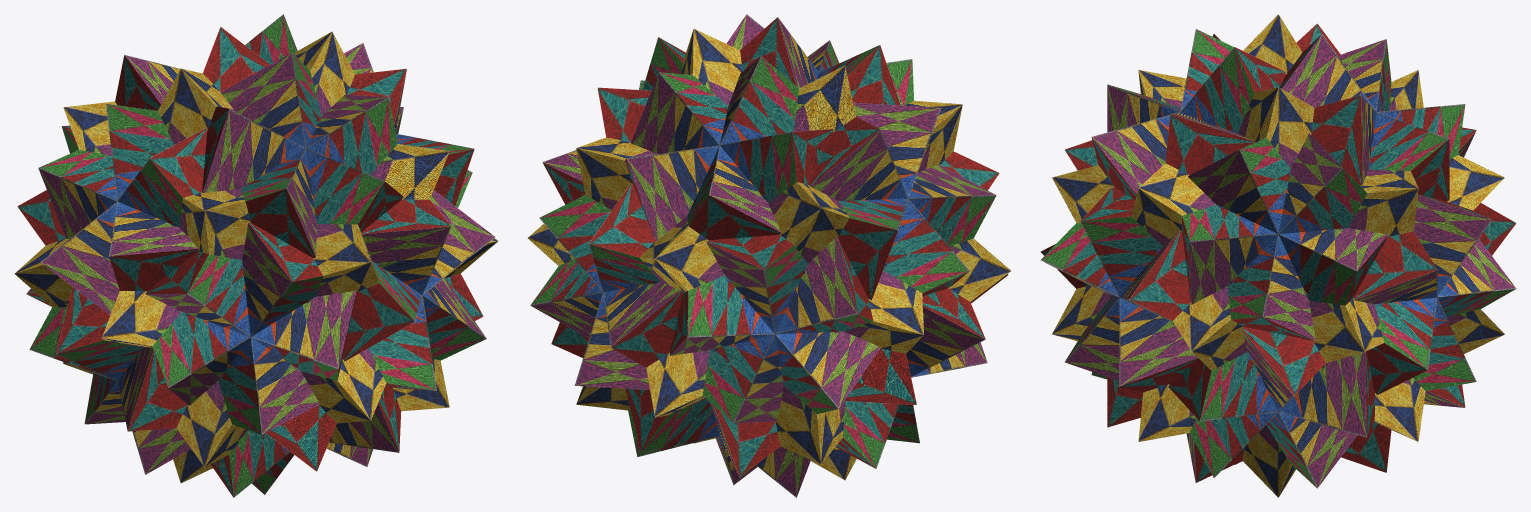
The model's file is GreatInvertedPentagonalHexecontahedron6.obj.
3 renders of one model, left to right at view 1: azimuth 30°, elevation 25°; view 2: azimuth 150°, elevation 25°; view 3: azimuth 270°, elevation 25°, orthographic.
Bounding box in the file's own units: 1.13 × 1.13 × 1.13.
Materials: 1 (1 with a texture image).
